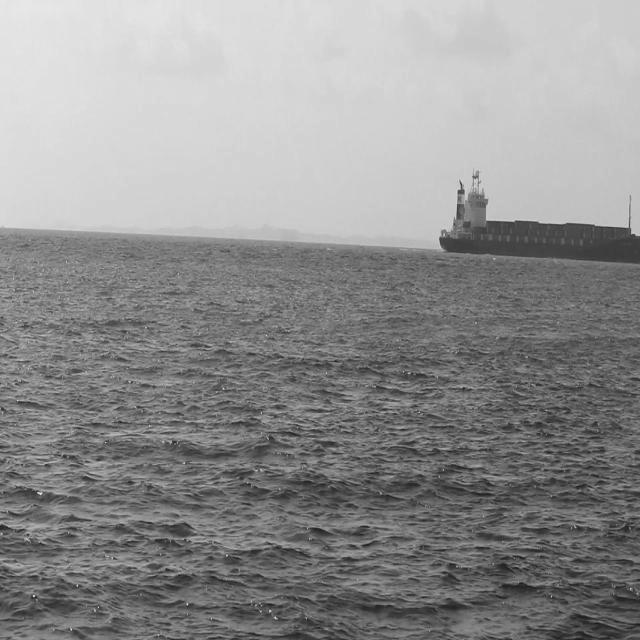ship: (434, 174, 640, 260)
